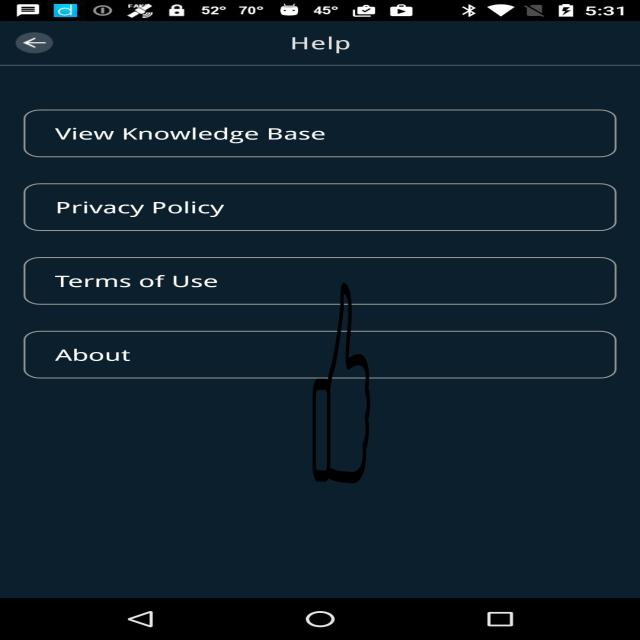privacy zuckering: (312, 283, 371, 483)
